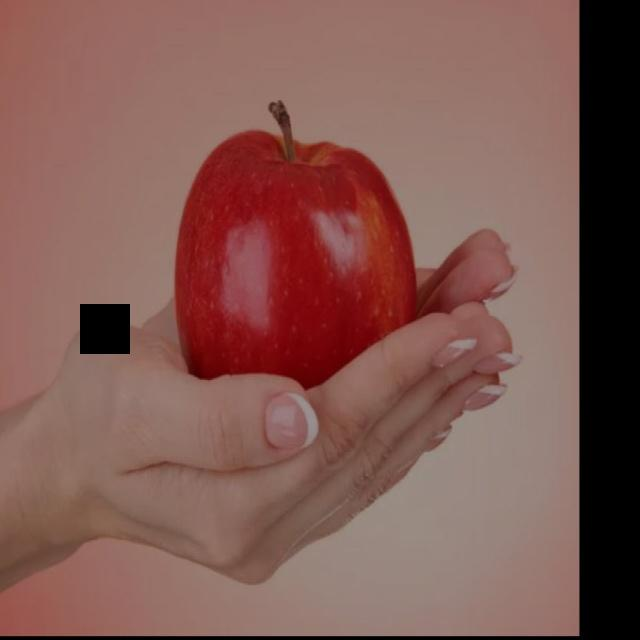red apple: (162, 117, 422, 392)
